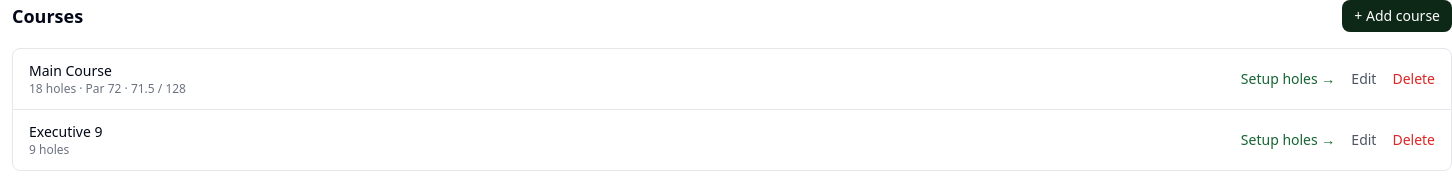
Test: CourseListClient › shows delete confirm row on Delete click
Click the button "Delete" in the row of "/ 128" at (1414, 79), box [1392,69,1435,89]
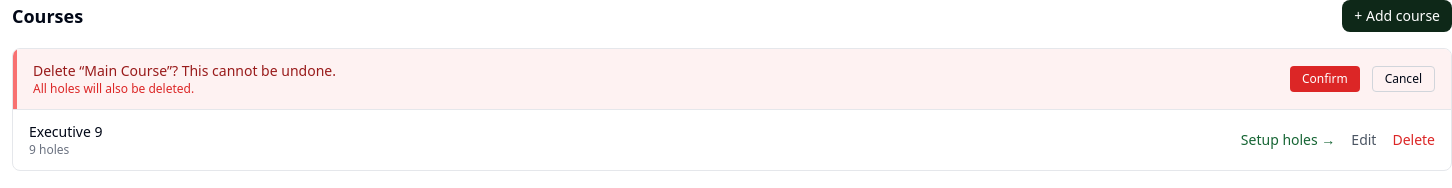
Expected: the button "Confirm" is shown, [1290,66,1360,92]
